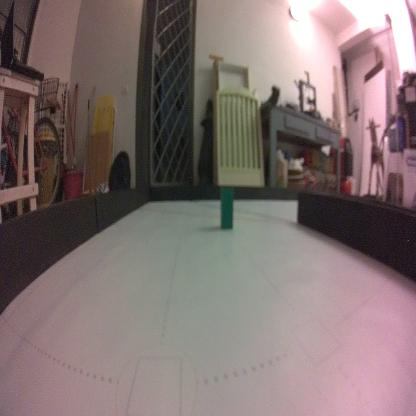green: (219, 185, 234, 230)
